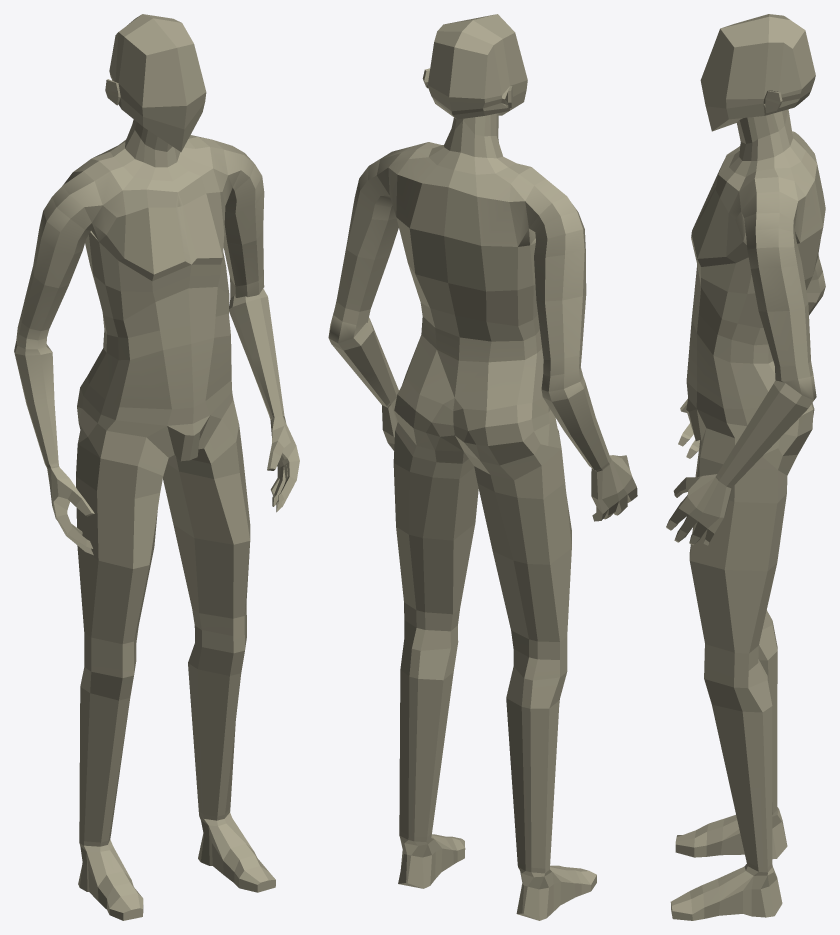
Rendered from mannequin_idle_pose_TEST.fbx.
3 renders of one model, left to right at view 1: azimuth 30°, elevation 25°; view 2: azimuth 150°, elevation 25°; view 3: azimuth 270°, elevation 25°, orthographic. The views are drawn at different scales.
Parts seen in each view (by area): view 1: body, mannequin_chest_clean1, head; view 2: body, head; view 3: body, mannequin_chest_clean1, head.
Part boxes in pixels (x1=…): body: x1=14, y1=119, x2=299, y2=920; mannequin_chest_clean1: x1=99, y1=192, x2=231, y2=409; head: x1=105, y1=14, x2=206, y2=151; body: x1=328, y1=113, x2=637, y2=920; head: x1=422, y1=14, x2=527, y2=119; body: x1=666, y1=109, x2=825, y2=920; mannequin_chest_clean1: x1=686, y1=170, x2=760, y2=408; head: x1=700, y1=14, x2=815, y2=131.
Bounding box in the file's own units: 73.08 × 236 × 39.56.
